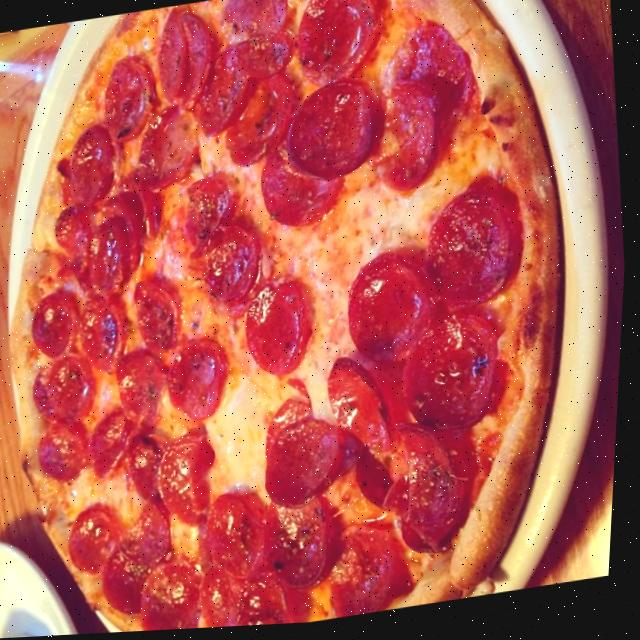pepperoni: (397, 311, 514, 444), (376, 18, 485, 157), (418, 188, 530, 323), (259, 371, 356, 516), (341, 249, 448, 376), (389, 414, 481, 560), (279, 75, 384, 189), (361, 79, 451, 199), (240, 271, 322, 386), (214, 73, 306, 175), (321, 353, 402, 467), (254, 141, 352, 235), (263, 489, 345, 601), (288, 0, 385, 94), (326, 518, 412, 623), (203, 484, 280, 587), (131, 99, 210, 196), (154, 430, 221, 534), (164, 337, 239, 429), (189, 46, 259, 141), (135, 555, 215, 633), (97, 52, 162, 144), (213, 237, 280, 322), (199, 221, 266, 305), (115, 343, 179, 430), (76, 285, 137, 376), (180, 172, 241, 263), (33, 351, 103, 430), (68, 499, 131, 582), (131, 273, 190, 361), (146, 5, 192, 113), (175, 6, 221, 111), (30, 285, 90, 364), (104, 539, 160, 623), (65, 123, 120, 208), (96, 193, 149, 277), (91, 402, 145, 482), (87, 215, 136, 302), (118, 498, 178, 569), (237, 571, 309, 629), (352, 441, 404, 519), (203, 561, 257, 631), (40, 420, 95, 488), (113, 172, 161, 248), (125, 433, 171, 508), (222, 0, 292, 45), (228, 38, 293, 85), (51, 200, 97, 261)
pizza: (0, 0, 611, 640)
